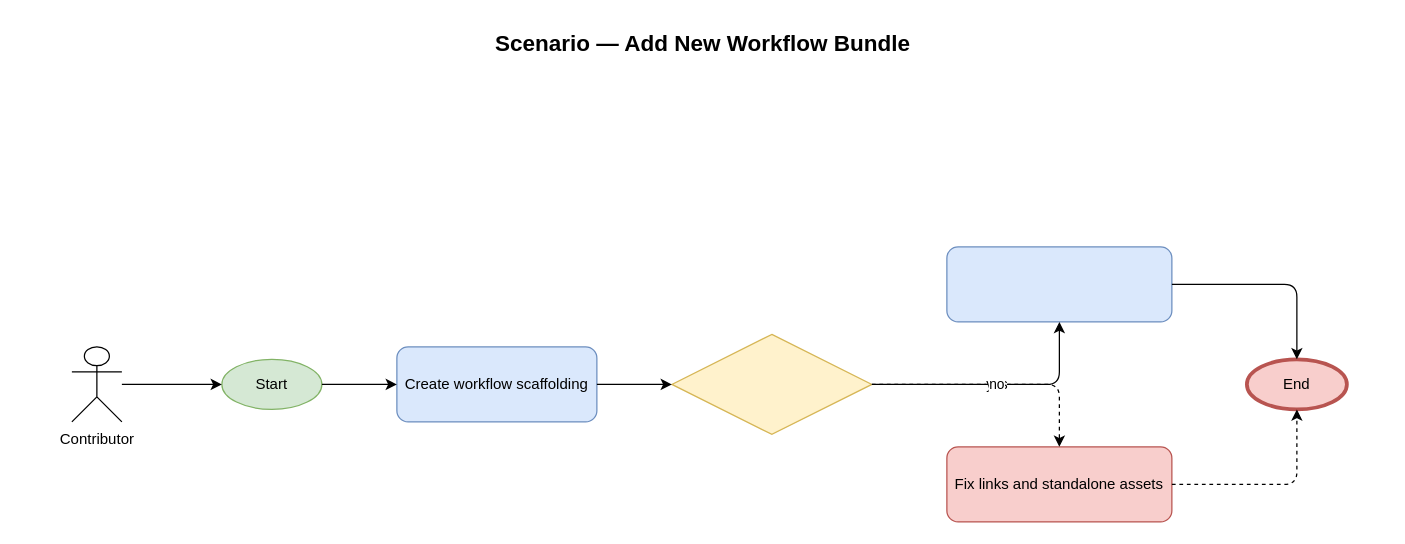
The diagram is 1405 pixels wide and 544 high, and some of its shapes have lost their labels. The shapes that lost their labels are listed below. From the top down, each one's box as (x1, y1, x2, y2) in pixels, then its label:
(946, 246, 1172, 322): Run smoke-test and open PR
(671, 333, 872, 434): Packaging valid?
